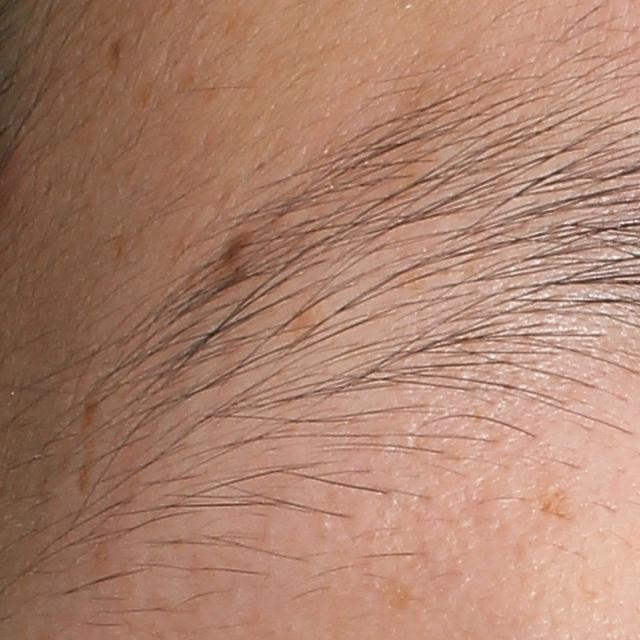melasma: (78, 388, 109, 502), (371, 570, 422, 615), (534, 487, 573, 520)
nevus: (217, 228, 256, 272), (107, 31, 135, 75)
